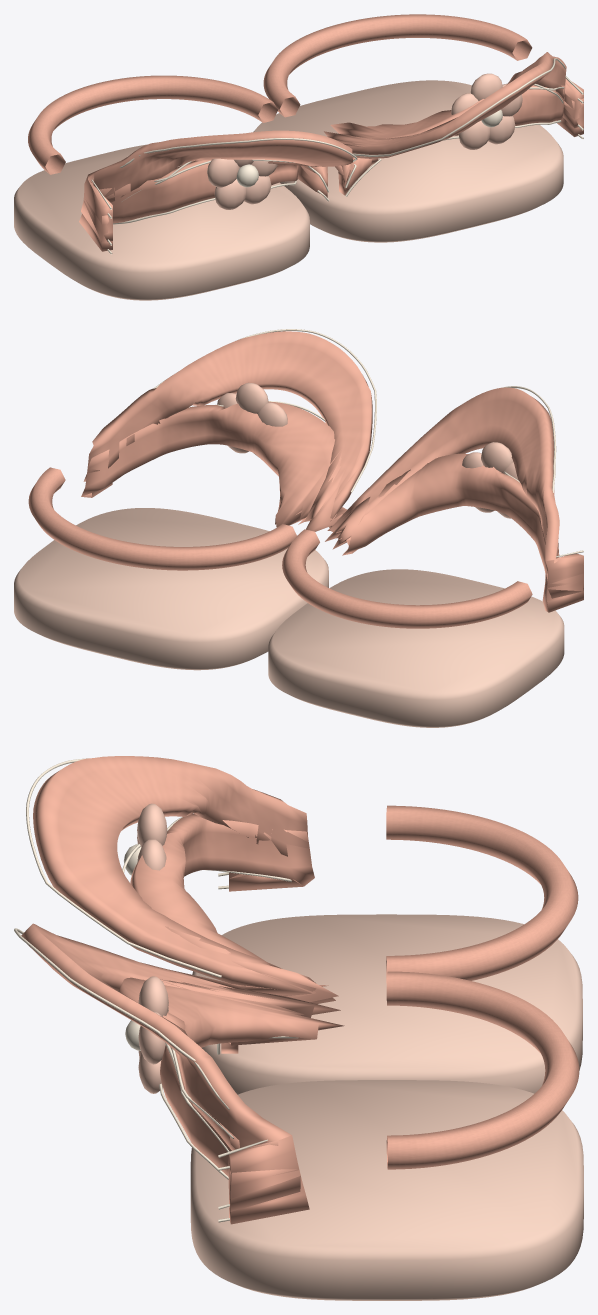
The model's file is restart_sandals_summer_pig.glb.
3 renders of one model, top to bottom at view 1: azimuth 30°, elevation 25°; view 2: azimuth 150°, elevation 25°; view 3: azimuth 270°, elevation 25°, orthographic. The views are drawn at different scales.
Visible parts, largest first — view 1: Calzado · Right · sandals_summer.002, Calzado · Left · sandals_summer.002; view 2: Calzado · Left · sandals_summer.002, Calzado · Right · sandals_summer.002; view 3: Calzado · Left · sandals_summer.002, Calzado · Right · sandals_summer.002.
Part boxes in pixels (x1=…): Calzado · Right · sandals_summer.002: x1=14, y1=75, x2=357, y2=300; Calzado · Left · sandals_summer.002: x1=253, y1=14, x2=583, y2=242; Calzado · Left · sandals_summer.002: x1=14, y1=329, x2=376, y2=670; Calzado · Right · sandals_summer.002: x1=268, y1=386, x2=583, y2=727; Calzado · Left · sandals_summer.002: x1=14, y1=923, x2=583, y2=1300; Calzado · Right · sandals_summer.002: x1=26, y1=756, x2=582, y2=1094.
Size of the model in its own units: 0.4288 by 0.1609 by 0.3.
Materials: 4 (3 with a texture image).
